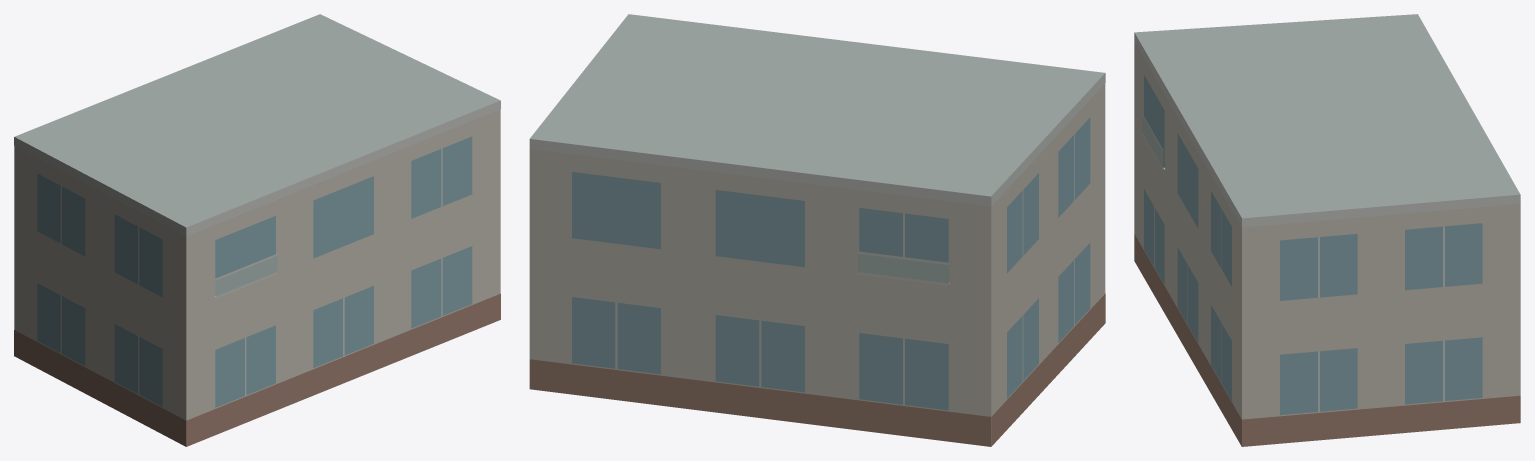
The model's file is survey-upis-32517837.glb.
The picture shows the model from 3 angles, left to right: view 1: azimuth 30°, elevation 25°; view 2: azimuth 150°, elevation 25°; view 3: azimuth 270°, elevation 25°; orthographic projection. The views are drawn at different scales.
Parts seen in each view (by area): view 1: survey-upis-32517837.tmp; view 2: survey-upis-32517837.tmp; view 3: survey-upis-32517837.tmp.
Part boxes in pixels (bbox=[...]): survey-upis-32517837.tmp: bbox=[14, 14, 500, 446]; survey-upis-32517837.tmp: bbox=[529, 14, 1105, 446]; survey-upis-32517837.tmp: bbox=[1134, 14, 1520, 446].
Size of the model in its own units: 11.72 by 6.1 by 9.36.
